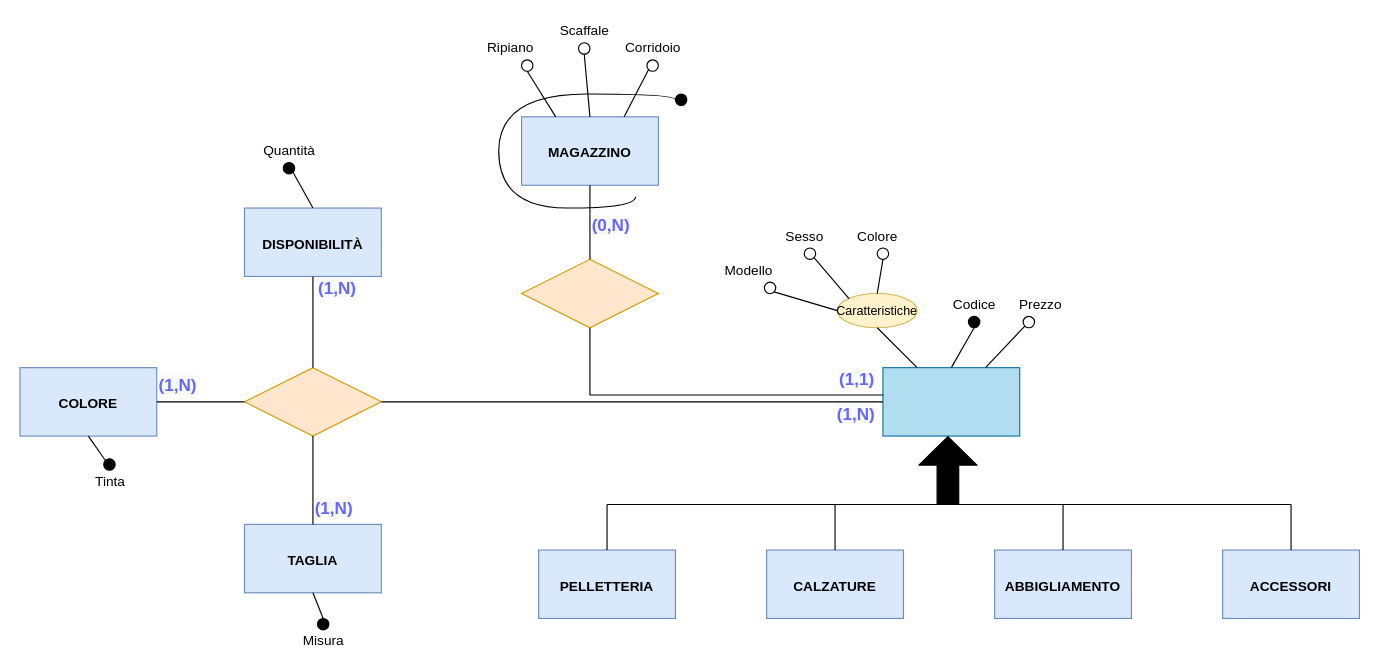
Some shapes in this 1379 by 671 pixel diagram are drawn without their labels. Here are the shapes that lost their labels. From the top down, the box of each, then its label:
(520, 258, 658, 328): Localizzazione
(243, 367, 381, 436): Proprietà
(882, 367, 1020, 436): PRODOTTO
